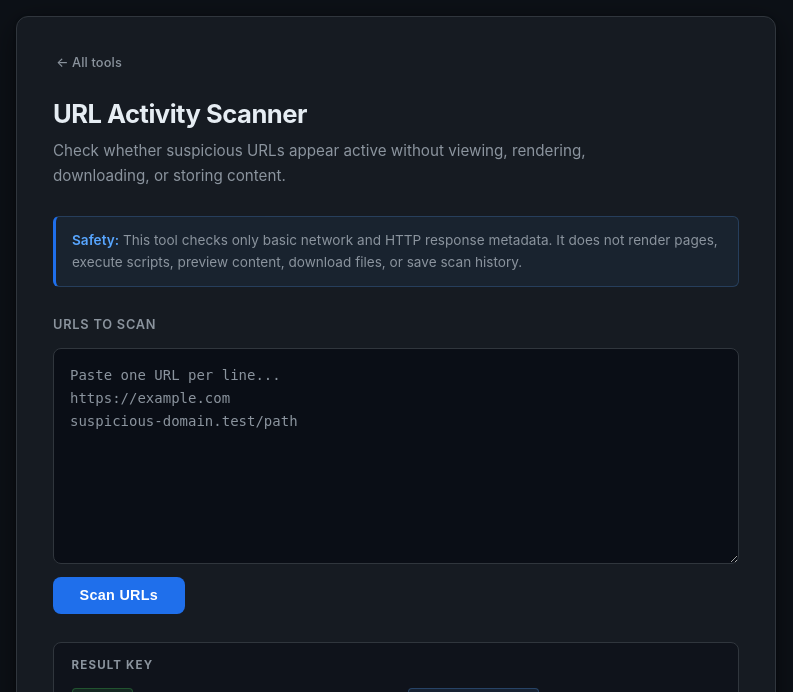
Scenario: 6. Result handling › displays a safe error message for API error responses (test 12)
Step 1. Replace the text in the text box with "https://example.com" → (396,456), box [53, 348, 739, 564]
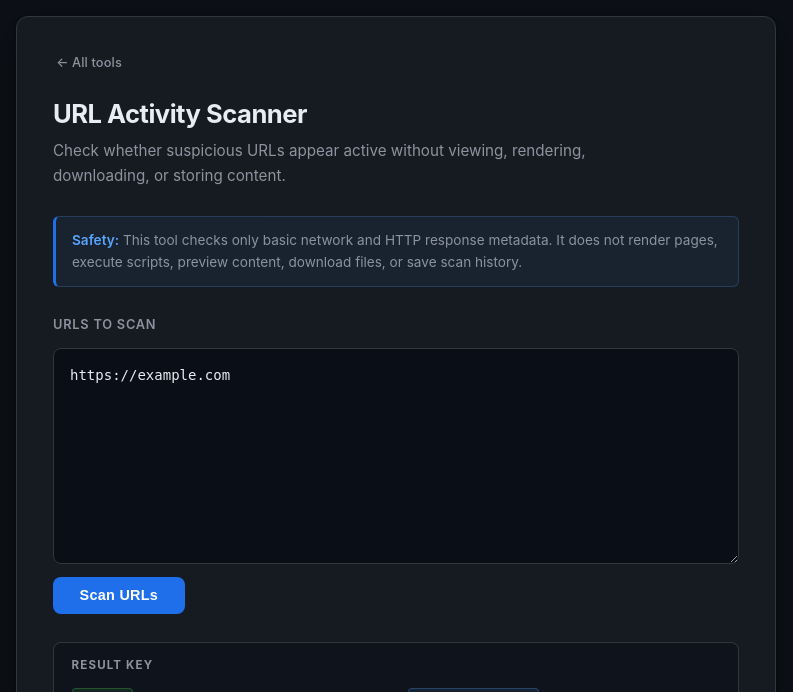
Step 2. Click the button "Scan URLs" → (119,595), box [53, 577, 185, 614]
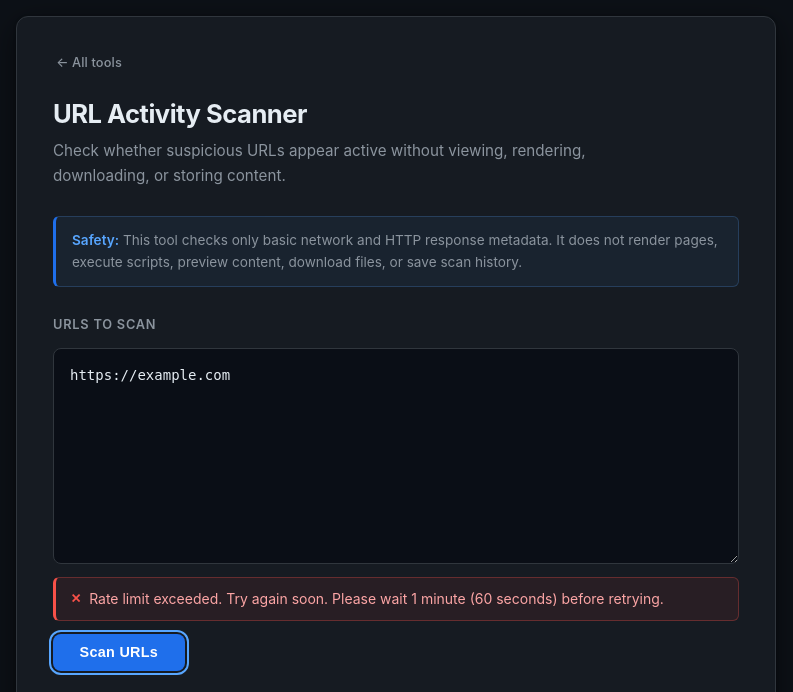
Result: the message shows "Rate limit exceeded" at [89, 590, 664, 607]
Result: the message shows "60 seconds" at [89, 590, 664, 607]
